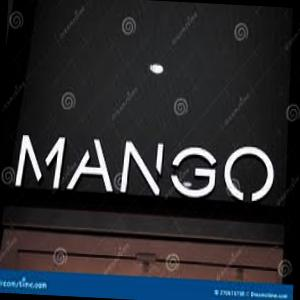mango: (11, 126, 279, 211)
